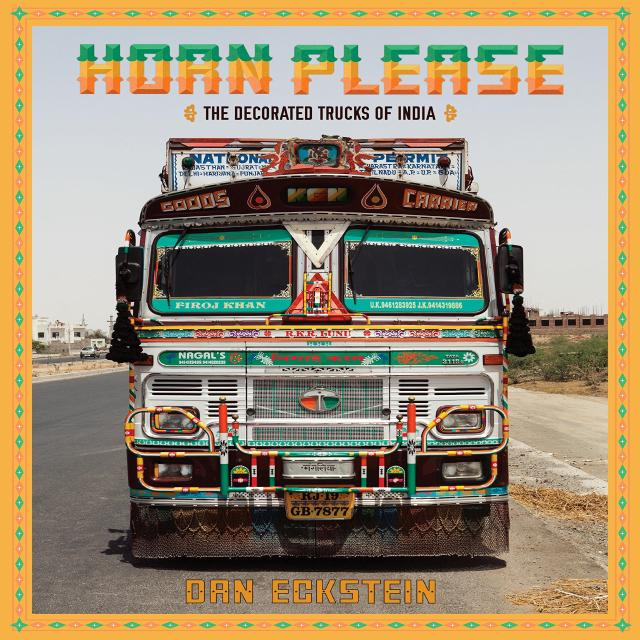Truck: (111, 144, 516, 560)
